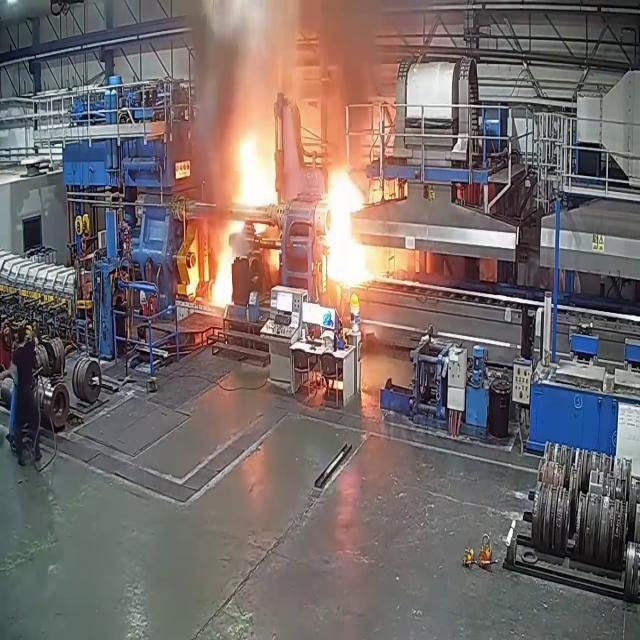Fire: (314, 160, 376, 298), (228, 116, 284, 223), (183, 224, 238, 314)
Smoke: (192, 0, 314, 110)
